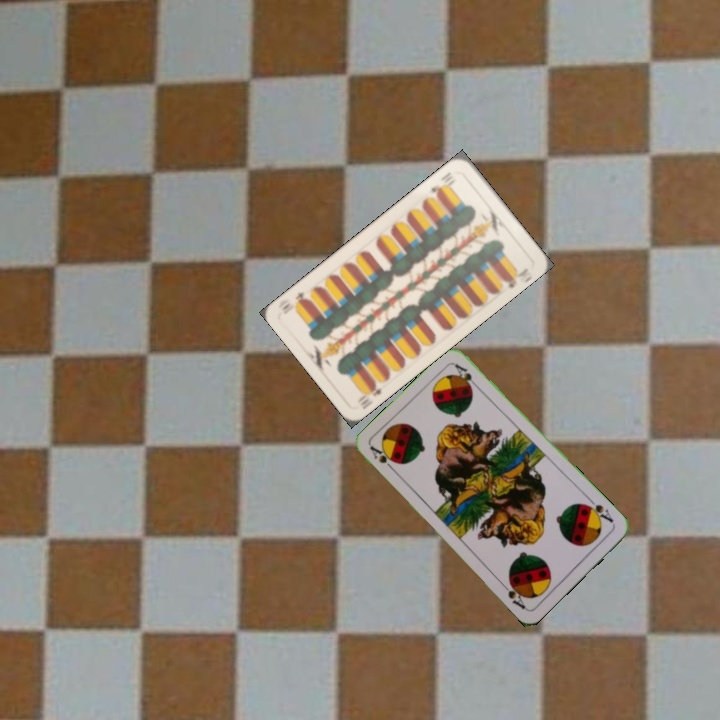E10: (356, 378, 388, 408), (427, 168, 454, 199)
SA: (580, 494, 616, 525), (366, 442, 399, 475)
